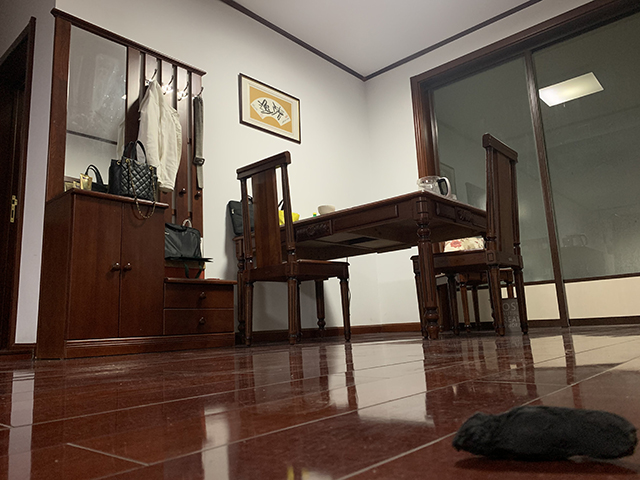cabinet: (34, 186, 239, 361)
feces: (449, 405, 639, 464)
stool: (410, 132, 530, 339), (236, 150, 354, 346)
table: (231, 189, 486, 347)
trashcan: (501, 297, 523, 335)
